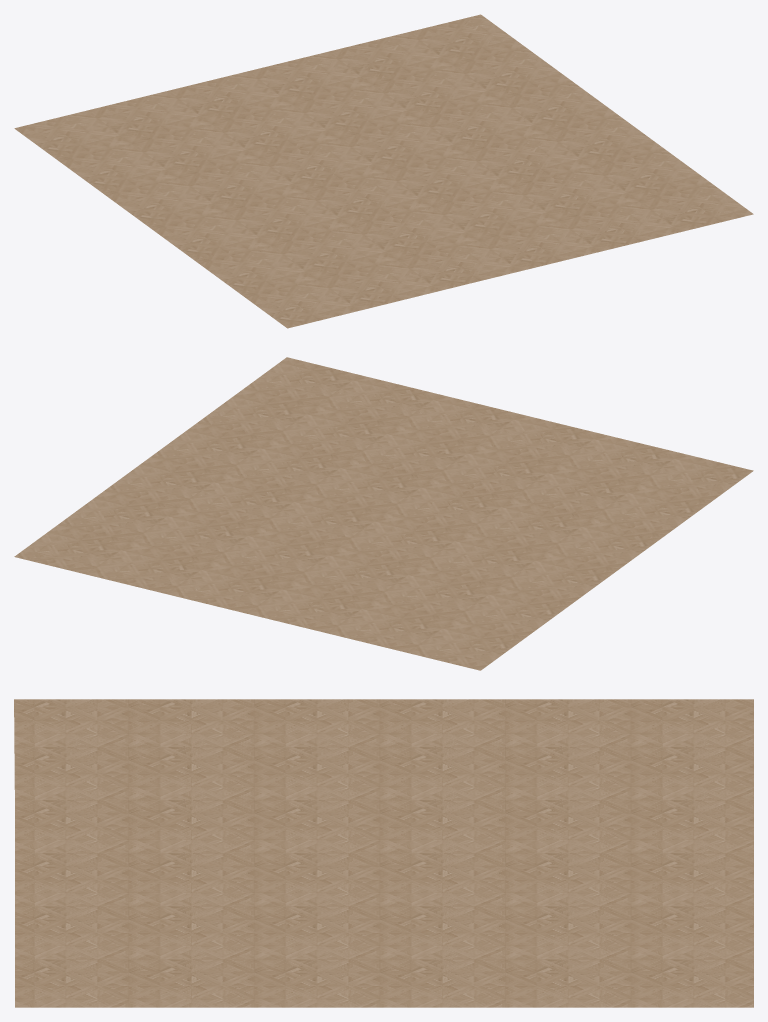
File: ground.glb
The picture shows the model from 3 angles, top to bottom: view 1: azimuth 30°, elevation 25°; view 2: azimuth 150°, elevation 25°; view 3: azimuth 270°, elevation 25°; orthographic projection. The views are drawn at different scales.
Parts seen in each view (by area): view 1: Floor; view 2: Floor; view 3: Floor.
Boxes of the visible parts, left/top/right/bottom form: Floor: left=14, top=14, right=753, bottom=328; Floor: left=14, top=357, right=753, bottom=670; Floor: left=14, top=699, right=753, bottom=1007.
Size of the model in its own units: 8.24 by 2.38e-07 by 8.35.
1 material, 1 textured.
